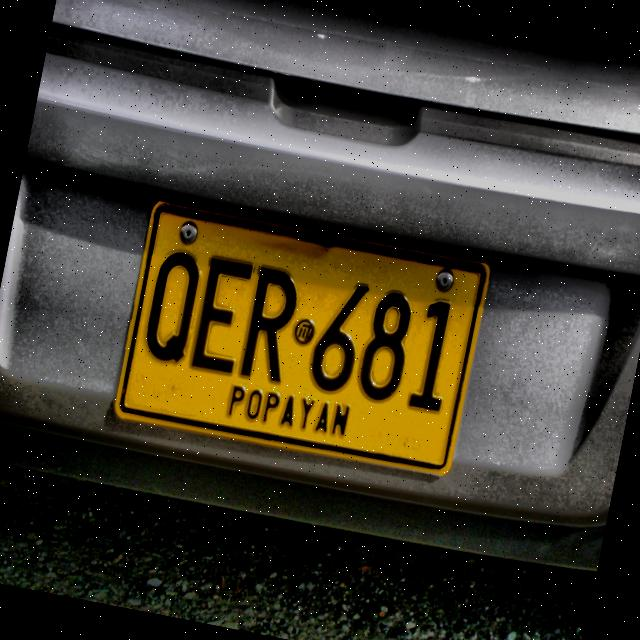1: (399, 294, 467, 420)
6: (303, 275, 375, 401)
8: (352, 286, 420, 411)
E: (186, 254, 256, 378)
Q: (138, 245, 208, 371)
R: (236, 262, 304, 387)
